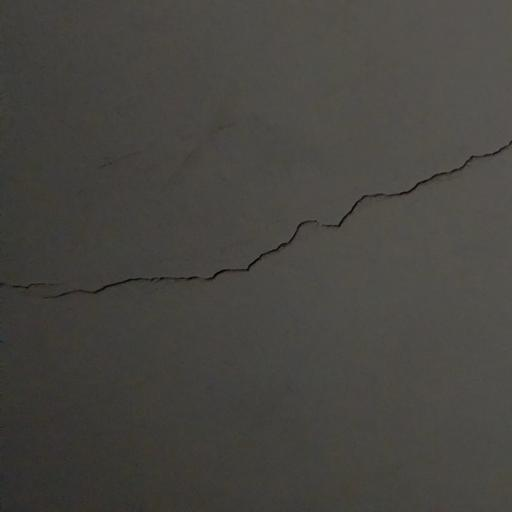major_crack: (0, 89, 512, 302)
